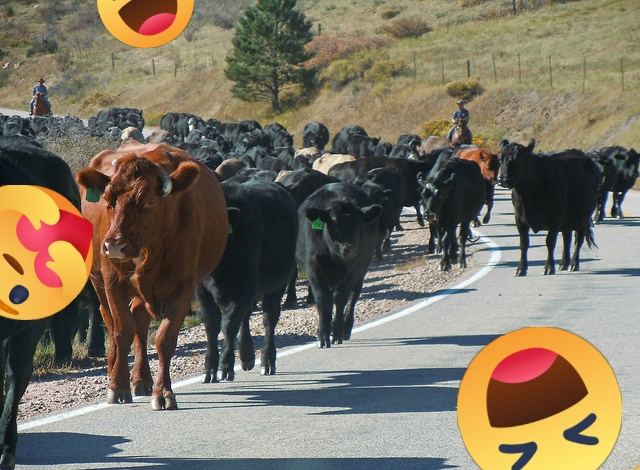care: (0, 185, 93, 320)
haha: (457, 327, 622, 470), (97, 0, 194, 48)
